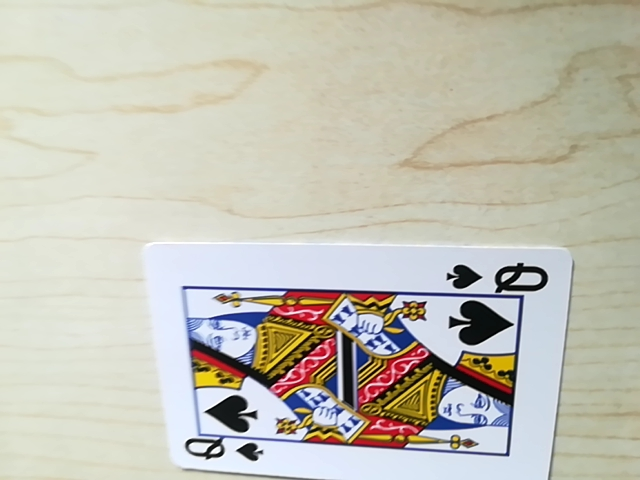ht q: (445, 259, 550, 296), (177, 433, 261, 470)
